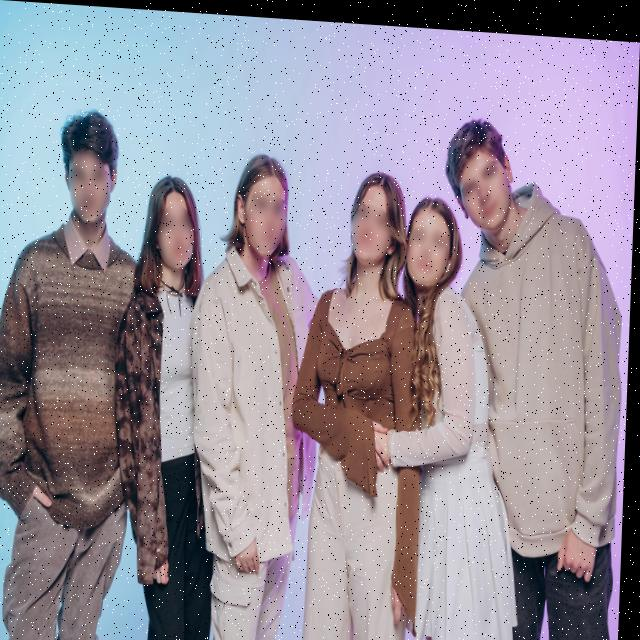Person: (439, 95, 634, 640), (0, 92, 151, 640), (186, 126, 342, 640), (299, 158, 418, 640), (114, 157, 226, 640), (394, 182, 488, 640)
